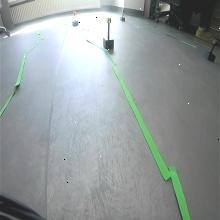green: (106, 17, 112, 24)
